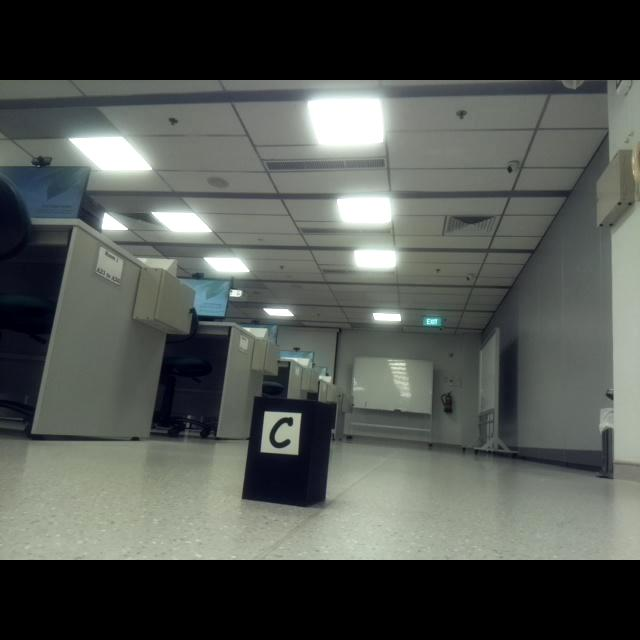C: (269, 417, 293, 449)
